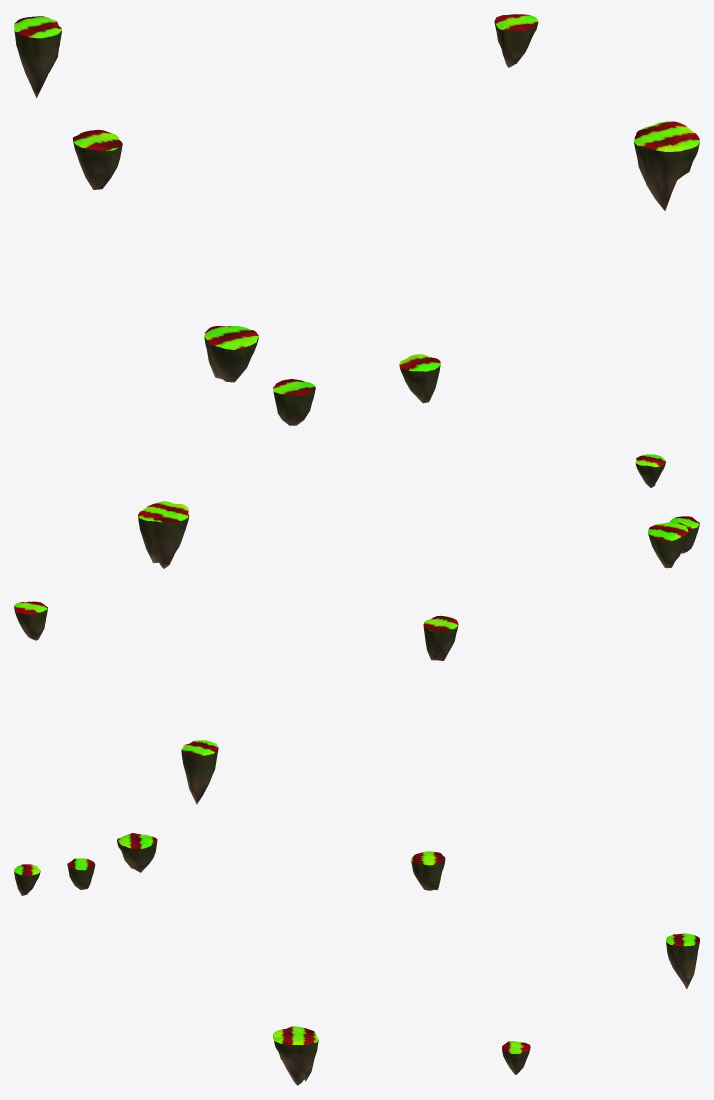
File: SM_H02_Floaters.fbx
The picture shows the model from 3 angles, top to bottom: view 1: azimuth 30°, elevation 25°; view 2: azimuth 150°, elevation 25°; view 3: azimuth 270°, elevation 25°; orthographic projection. The views are drawn at different scales.
Visible parts, largest first — view 1: SM_H02_Floaters; view 2: SM_H02_Floaters; view 3: SM_H02_Floaters.
Boxes of the visible parts, box(x1,y1,x2,y2) form: SM_H02_Floaters: box(14, 14, 699, 425); SM_H02_Floaters: box(14, 454, 699, 804); SM_H02_Floaters: box(14, 833, 699, 1085).
Bounding box in the file's own units: 260 × 54.56 × 379.
